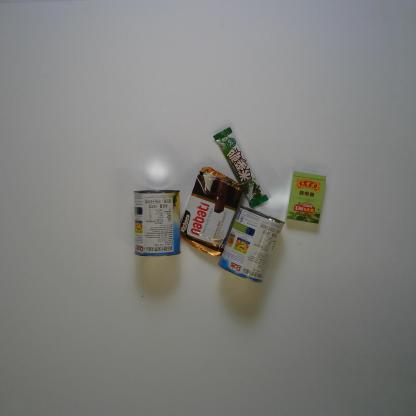Candy: (284, 169, 328, 225)
Canned Food: (218, 204, 284, 284), (130, 186, 183, 258)
Chocolate: (212, 125, 269, 210)
Dessert: (174, 167, 247, 258)
